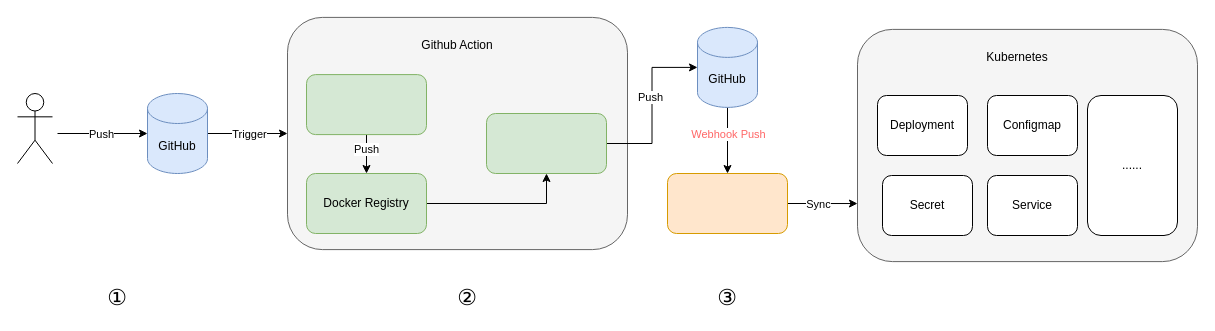
Some shapes in this 1215 by 331 pixel diagram are drawn without their labels. Each missing label, with the centre of its shape:
ArgoCD: point (727, 203)
Build Docker Image: point (366, 104)
Dev: point (34, 128)
Edit Helm value.yaml: point (546, 143)
